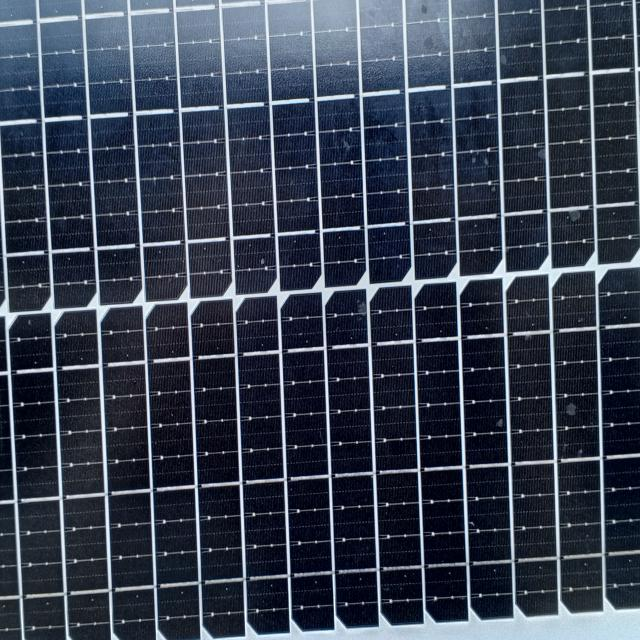Clean: (4, 0, 635, 619)
